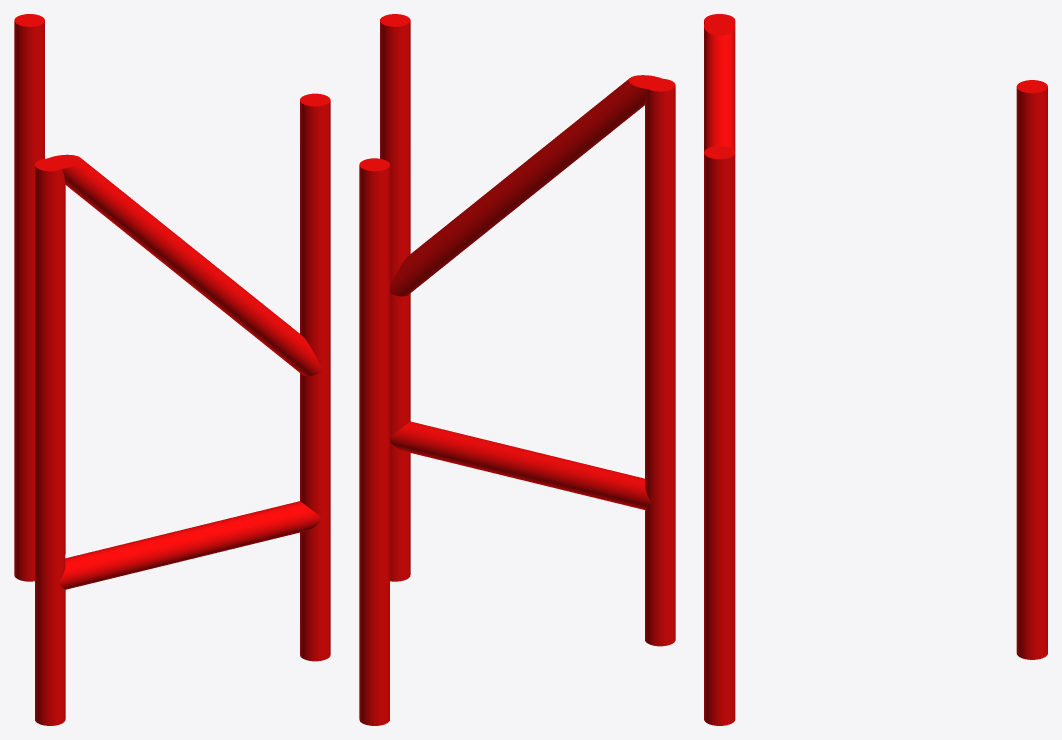
File: M1-Tubes.dae
The picture shows the model from 3 angles, left to right: view 1: azimuth 30°, elevation 25°; view 2: azimuth 150°, elevation 25°; view 3: azimuth 270°, elevation 25°; orthographic projection. The views are drawn at different scales.
Parts seen in each view (by area): view 1: 69f2250bd1484007354f592a (×2); view 2: 69f2250bd1484007354f592a (×2); view 3: 69f2250bd1484007354f592a (×2).
Part boxes in pixels (bbox=[...]): 69f2250bd1484007354f592a (×2): bbox=[14, 14, 330, 725]; 69f2250bd1484007354f592a (×2): bbox=[359, 14, 675, 725]; 69f2250bd1484007354f592a (×2): bbox=[704, 14, 1047, 725].
Size of the model in its own units: 1.1 by 1.1 by 2.
